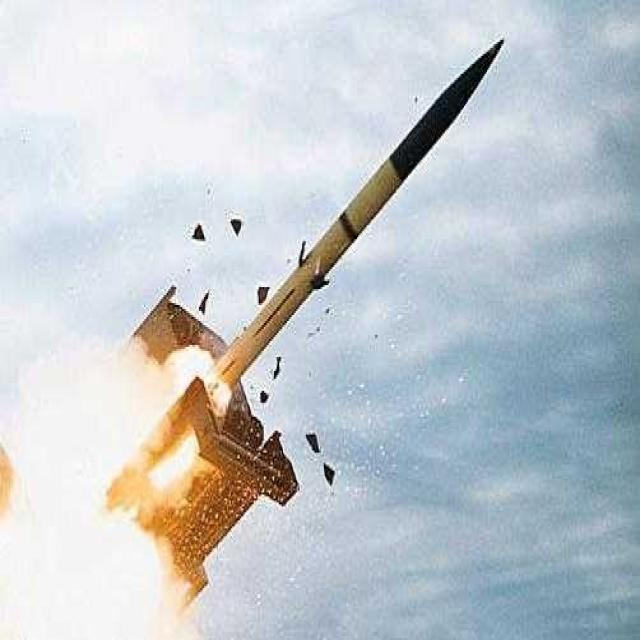missile: (198, 36, 504, 413)
